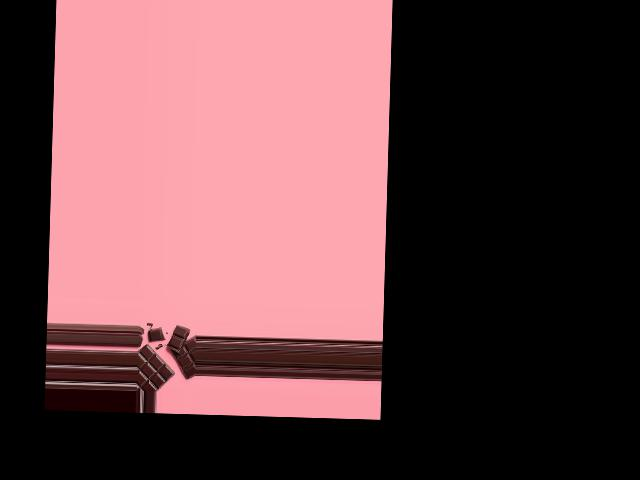chocolate: (136, 328, 192, 393)
